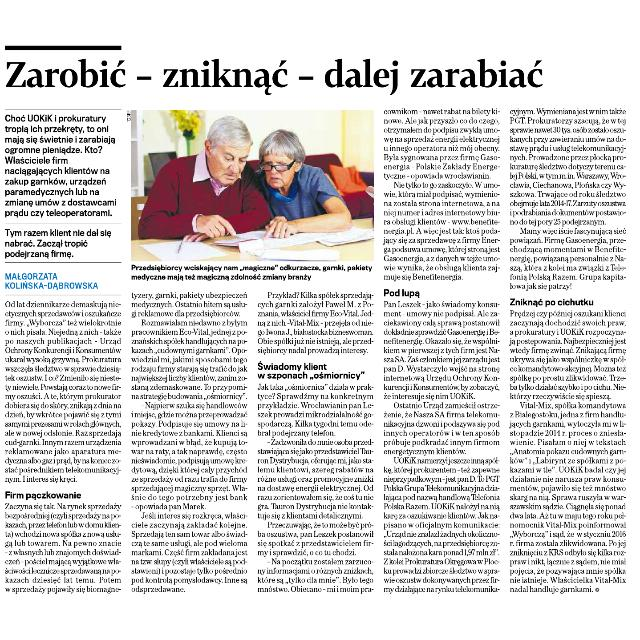author: (2, 270, 104, 292)
body: (508, 102, 632, 598), (382, 102, 504, 598), (130, 288, 252, 598), (256, 287, 378, 597), (3, 298, 126, 596)
caption: (128, 262, 376, 282)
image: (126, 106, 377, 264)
lead: (2, 110, 118, 262)
title: (3, 54, 551, 98)
